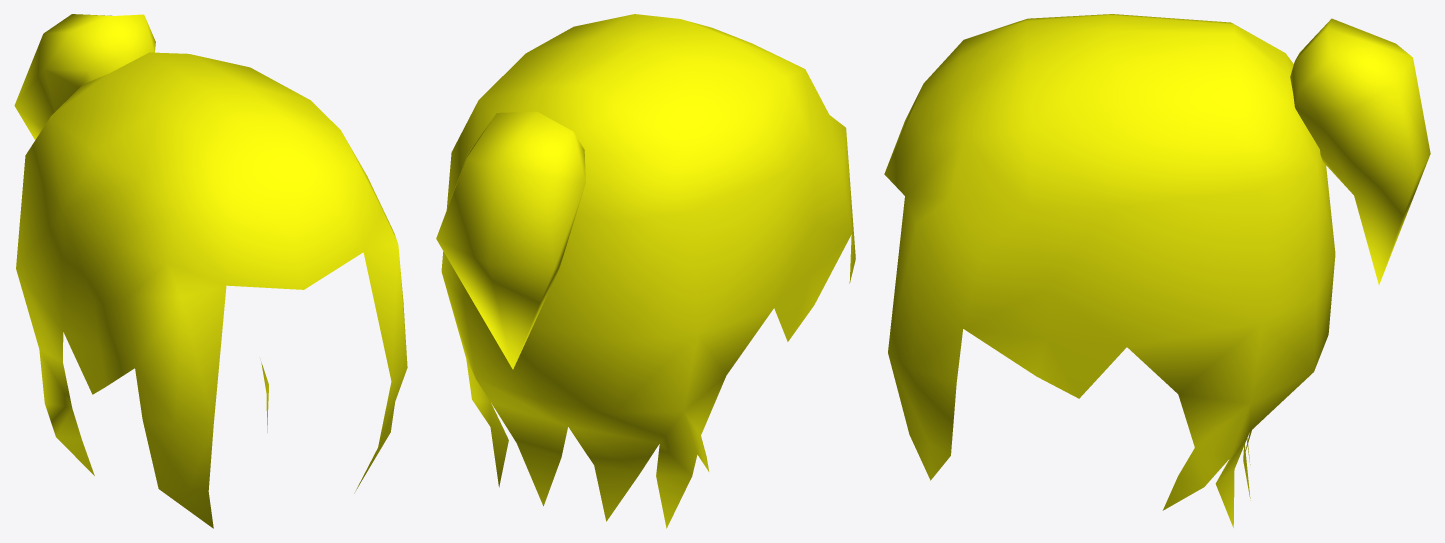
The model's file is hair_F15.glb.
The picture shows the model from 3 angles, left to right: view 1: azimuth 30°, elevation 25°; view 2: azimuth 150°, elevation 25°; view 3: azimuth 270°, elevation 25°; orthographic projection. The views are drawn at different scales.
Parts seen in each view (by area): view 1: Gabi1; view 2: Gabi1; view 3: Gabi1.
Boxes of the visible parts, <box> form: Gabi1: <box>14,14,407,528</box>; Gabi1: <box>436,14,855,528</box>; Gabi1: <box>884,14,1430,527</box>.
Size of the model in its own units: 0.5092 by 0.6972 by 0.7543.
Materials: 1 (1 with a texture image).
